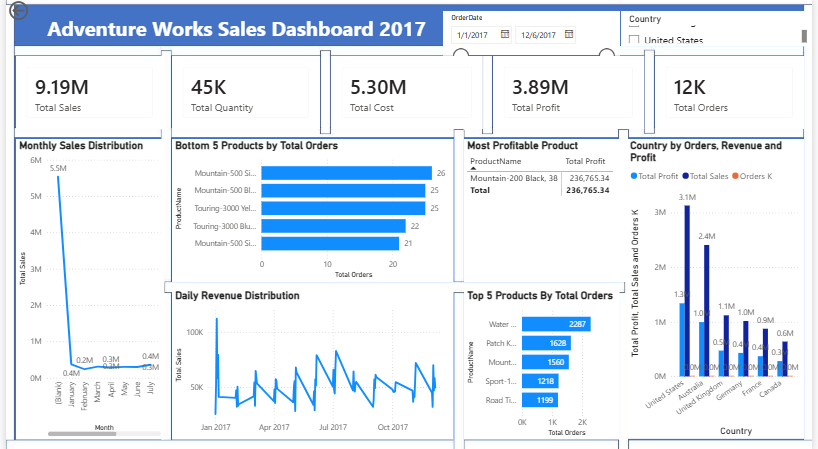

This screenshot's page, from the dashboard's own definition file:
{"tool":"powerbi","page":{"name":"Page 2","canvas":[1280,720],"ordinal":0},"visuals":[{"type":"cardVisual","fields":{"Data":["Sales.Total Sales"]},"box":[15.9,92.1,234.9,115.9],"z":0},{"type":"cardVisual","fields":{"Data":["Sales.Total Cost"]},"box":[515.9,92.1,241.3,115.9],"z":1000},{"type":"cardVisual","fields":{"Data":["Sales.Total Profit"]},"box":[773,92.1,239.7,115.9],"z":2000},{"type":"cardVisual","fields":{"Data":["Sales.Total Orders"]},"box":[1030.2,92.1,236.5,115.9],"z":3000},{"type":"cardVisual","fields":{"Data":["Sales.Total Quantity"]},"box":[263.5,92.1,234.9,115.9],"z":4000},{"type":"lineChart","title":"Monthly Sales Distribution","fields":{"Y":["Sales.Total Sales"],"Category":["DateTable.MonthName"]},"box":[15.1,223.4,235.2,477.1],"z":5000},{"type":"lineChart","title":"Daily Revenue Distribution","fields":{"Y":["Sales.Total Sales"],"Category":["DateTable.WeekdayName"]},"box":[263.7,461.9,446.8,238.5],"z":6000},{"type":"clusteredBarChart","title":"Top 5 Products By Total Orders","fields":{"Category":["Products.ProductName"],"Y":["Sales.Total Orders"]},"box":[727.3,461.9,246.9,238.5],"z":7000},{"type":"clusteredBarChart","title":"Bottom 5 Products by Total Orders","fields":{"Category":["Products.ProductName"],"Y":["Sales.Total Orders"]},"box":[263.5,223.2,446.4,227.5],"z":8000},{"type":"actionButton","box":[0,0,100,40],"z":9000},{"type":"pivotTable","title":"Most Profitable Product","fields":{"Rows":["Products.ProductName"],"Values":["Sales.Total Profit"]},"box":[727.3,223.4,258.7,226.8],"z":10000},{"type":"slicer","fields":{"Values":["Sales.OrderDate"]},"box":[694.1,20.2,280.8,72],"z":11000},{"type":"textbox","box":[38.1,20.6,655.6,55.6],"z":12000},{"type":"map","fields":{"Category":["Territories.Country"],"Size":["Sales.Total Revenue"]},"box":[694.1,223.2,573.1,478.1],"z":13000},{"type":"slicer","fields":{"Values":["Territories.Country"]},"box":[974.3,20,292.9,55.7],"z":14000}]}

Visuals, with their boxes in screenshot pixels (x1, y1, x2, y2), scaled from the page's 1280x720 canvas onto the 818x449 screenshot:
cardVisual - Sales.Total Sales: [x1=10, y1=57, x2=160, y2=130]
cardVisual - Sales.Total Cost: [x1=330, y1=57, x2=484, y2=130]
cardVisual - Sales.Total Profit: [x1=494, y1=57, x2=647, y2=130]
cardVisual - Sales.Total Orders: [x1=658, y1=57, x2=810, y2=130]
cardVisual - Sales.Total Quantity: [x1=168, y1=57, x2=319, y2=130]
"Monthly Sales Distribution" lineChart: [x1=10, y1=139, x2=160, y2=437]
"Daily Revenue Distribution" lineChart: [x1=169, y1=288, x2=454, y2=437]
"Top 5 Products By Total Orders" clusteredBarChart: [x1=465, y1=288, x2=623, y2=437]
"Bottom 5 Products by Total Orders" clusteredBarChart: [x1=168, y1=139, x2=454, y2=281]
actionButton: [x1=0, y1=0, x2=64, y2=25]
"Most Profitable Product" pivotTable: [x1=465, y1=139, x2=630, y2=281]
slicer - Sales.OrderDate: [x1=444, y1=13, x2=623, y2=57]
textbox: [x1=24, y1=13, x2=443, y2=48]
map - Territories.Country x Sales.Total Revenue: [x1=444, y1=139, x2=810, y2=437]
slicer - Territories.Country: [x1=623, y1=12, x2=810, y2=47]
